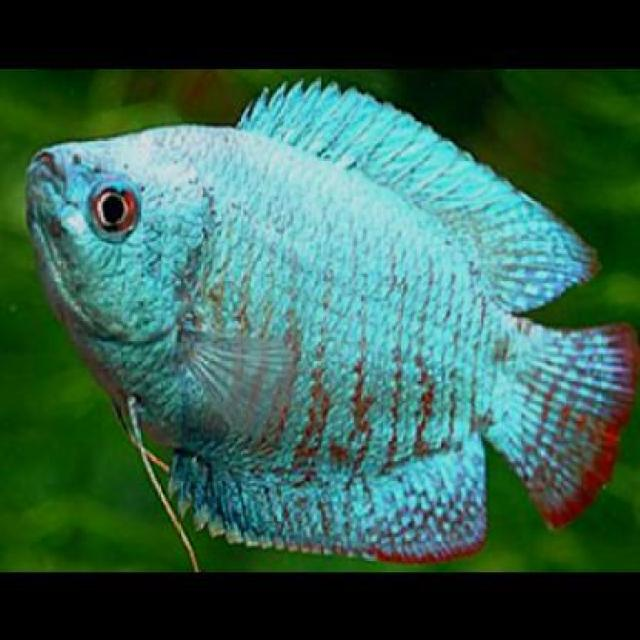Gourami: (23, 68, 639, 572)
